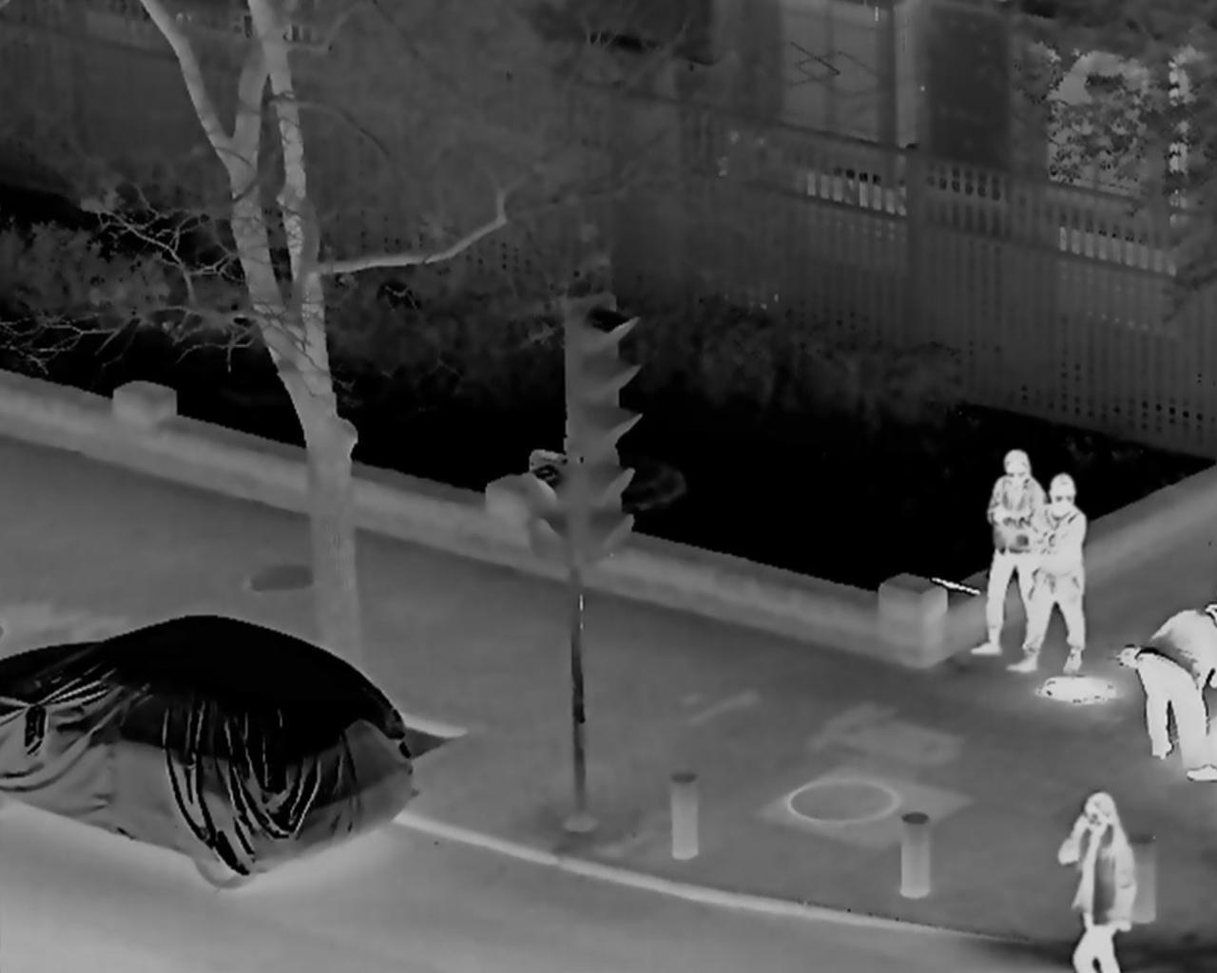person: (1052, 792, 1134, 973), (1137, 589, 1217, 772), (981, 442, 1042, 671), (1020, 478, 1087, 671)
